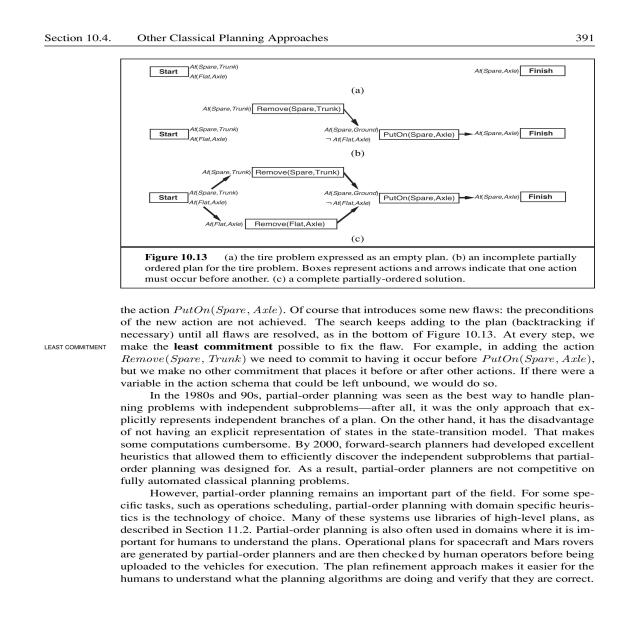diagram: (99, 53, 632, 301)
